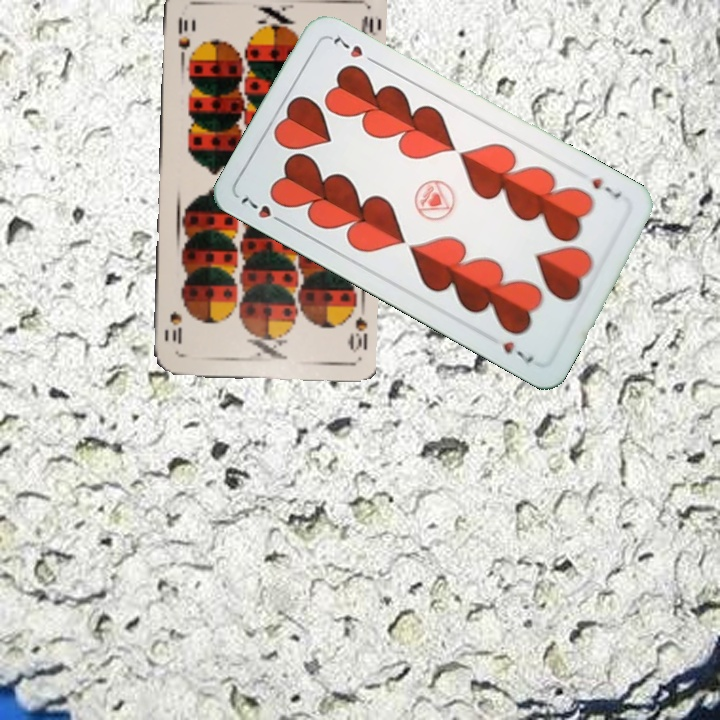H7: (236, 193, 289, 228), (588, 173, 624, 202)
S10: (344, 299, 370, 355), (174, 13, 193, 63)
